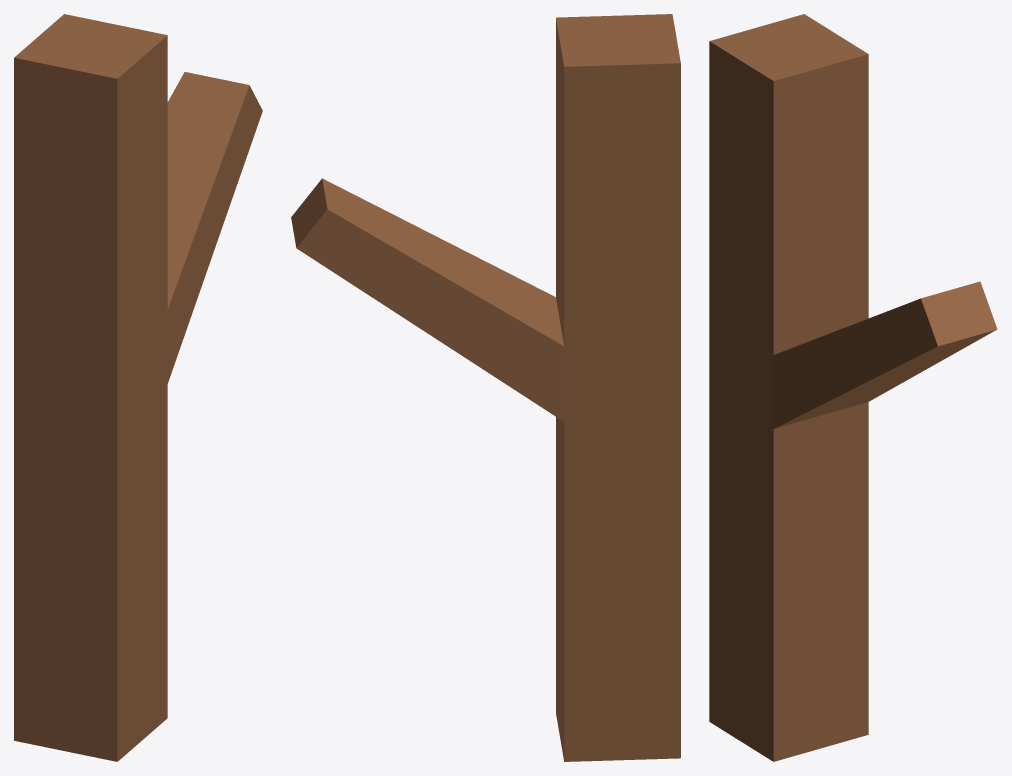
Rendered from tree-winter-trunk-014.glb.
3 renders of one model, left to right at view 1: azimuth 30°, elevation 25°; view 2: azimuth 150°, elevation 25°; view 3: azimuth 270°, elevation 25°, orthographic. The views are drawn at different scales.
Visible parts, largest first — view 1: Cube.050_149; view 2: Cube.050_149; view 3: Cube.050_149.
Part boxes in pixels (x1,y1,x2,y2): Cube.050_149: (14,14,262,761); Cube.050_149: (291,14,680,761); Cube.050_149: (709,14,997,761).
Bounding box in the file's own units: 0.7706 × 1.59 × 0.6105.
